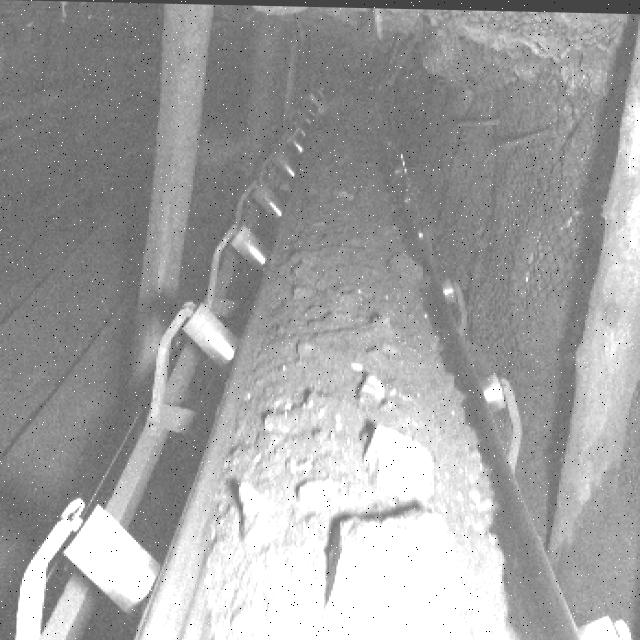large_sized_coal: (331, 506, 463, 640), (360, 424, 436, 502), (294, 478, 340, 513), (235, 475, 274, 516), (360, 370, 401, 408), (386, 249, 427, 282)
